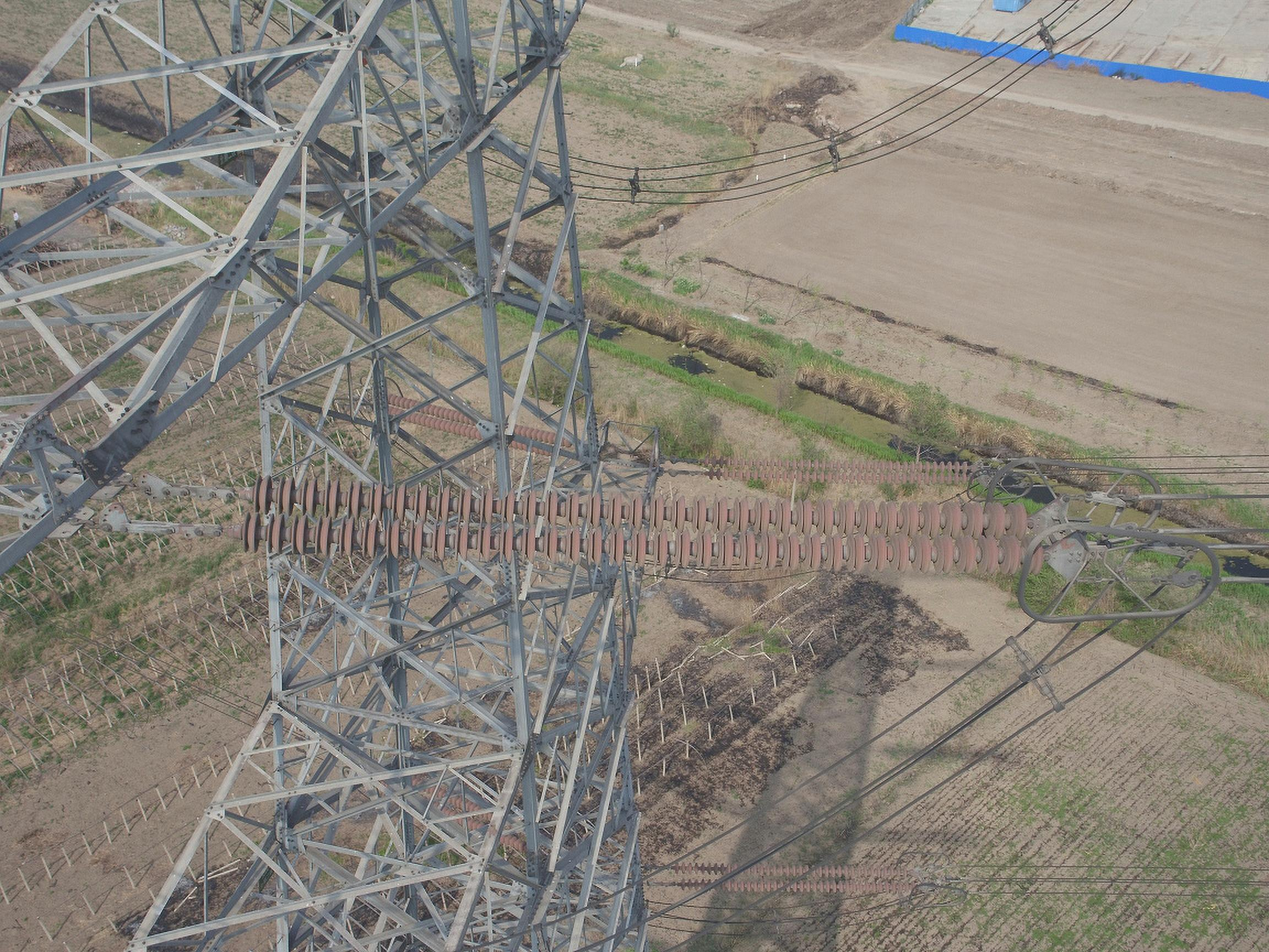insulator: (233, 471, 1046, 578), (382, 391, 574, 457), (702, 452, 978, 488), (408, 774, 531, 853), (673, 859, 918, 895)
